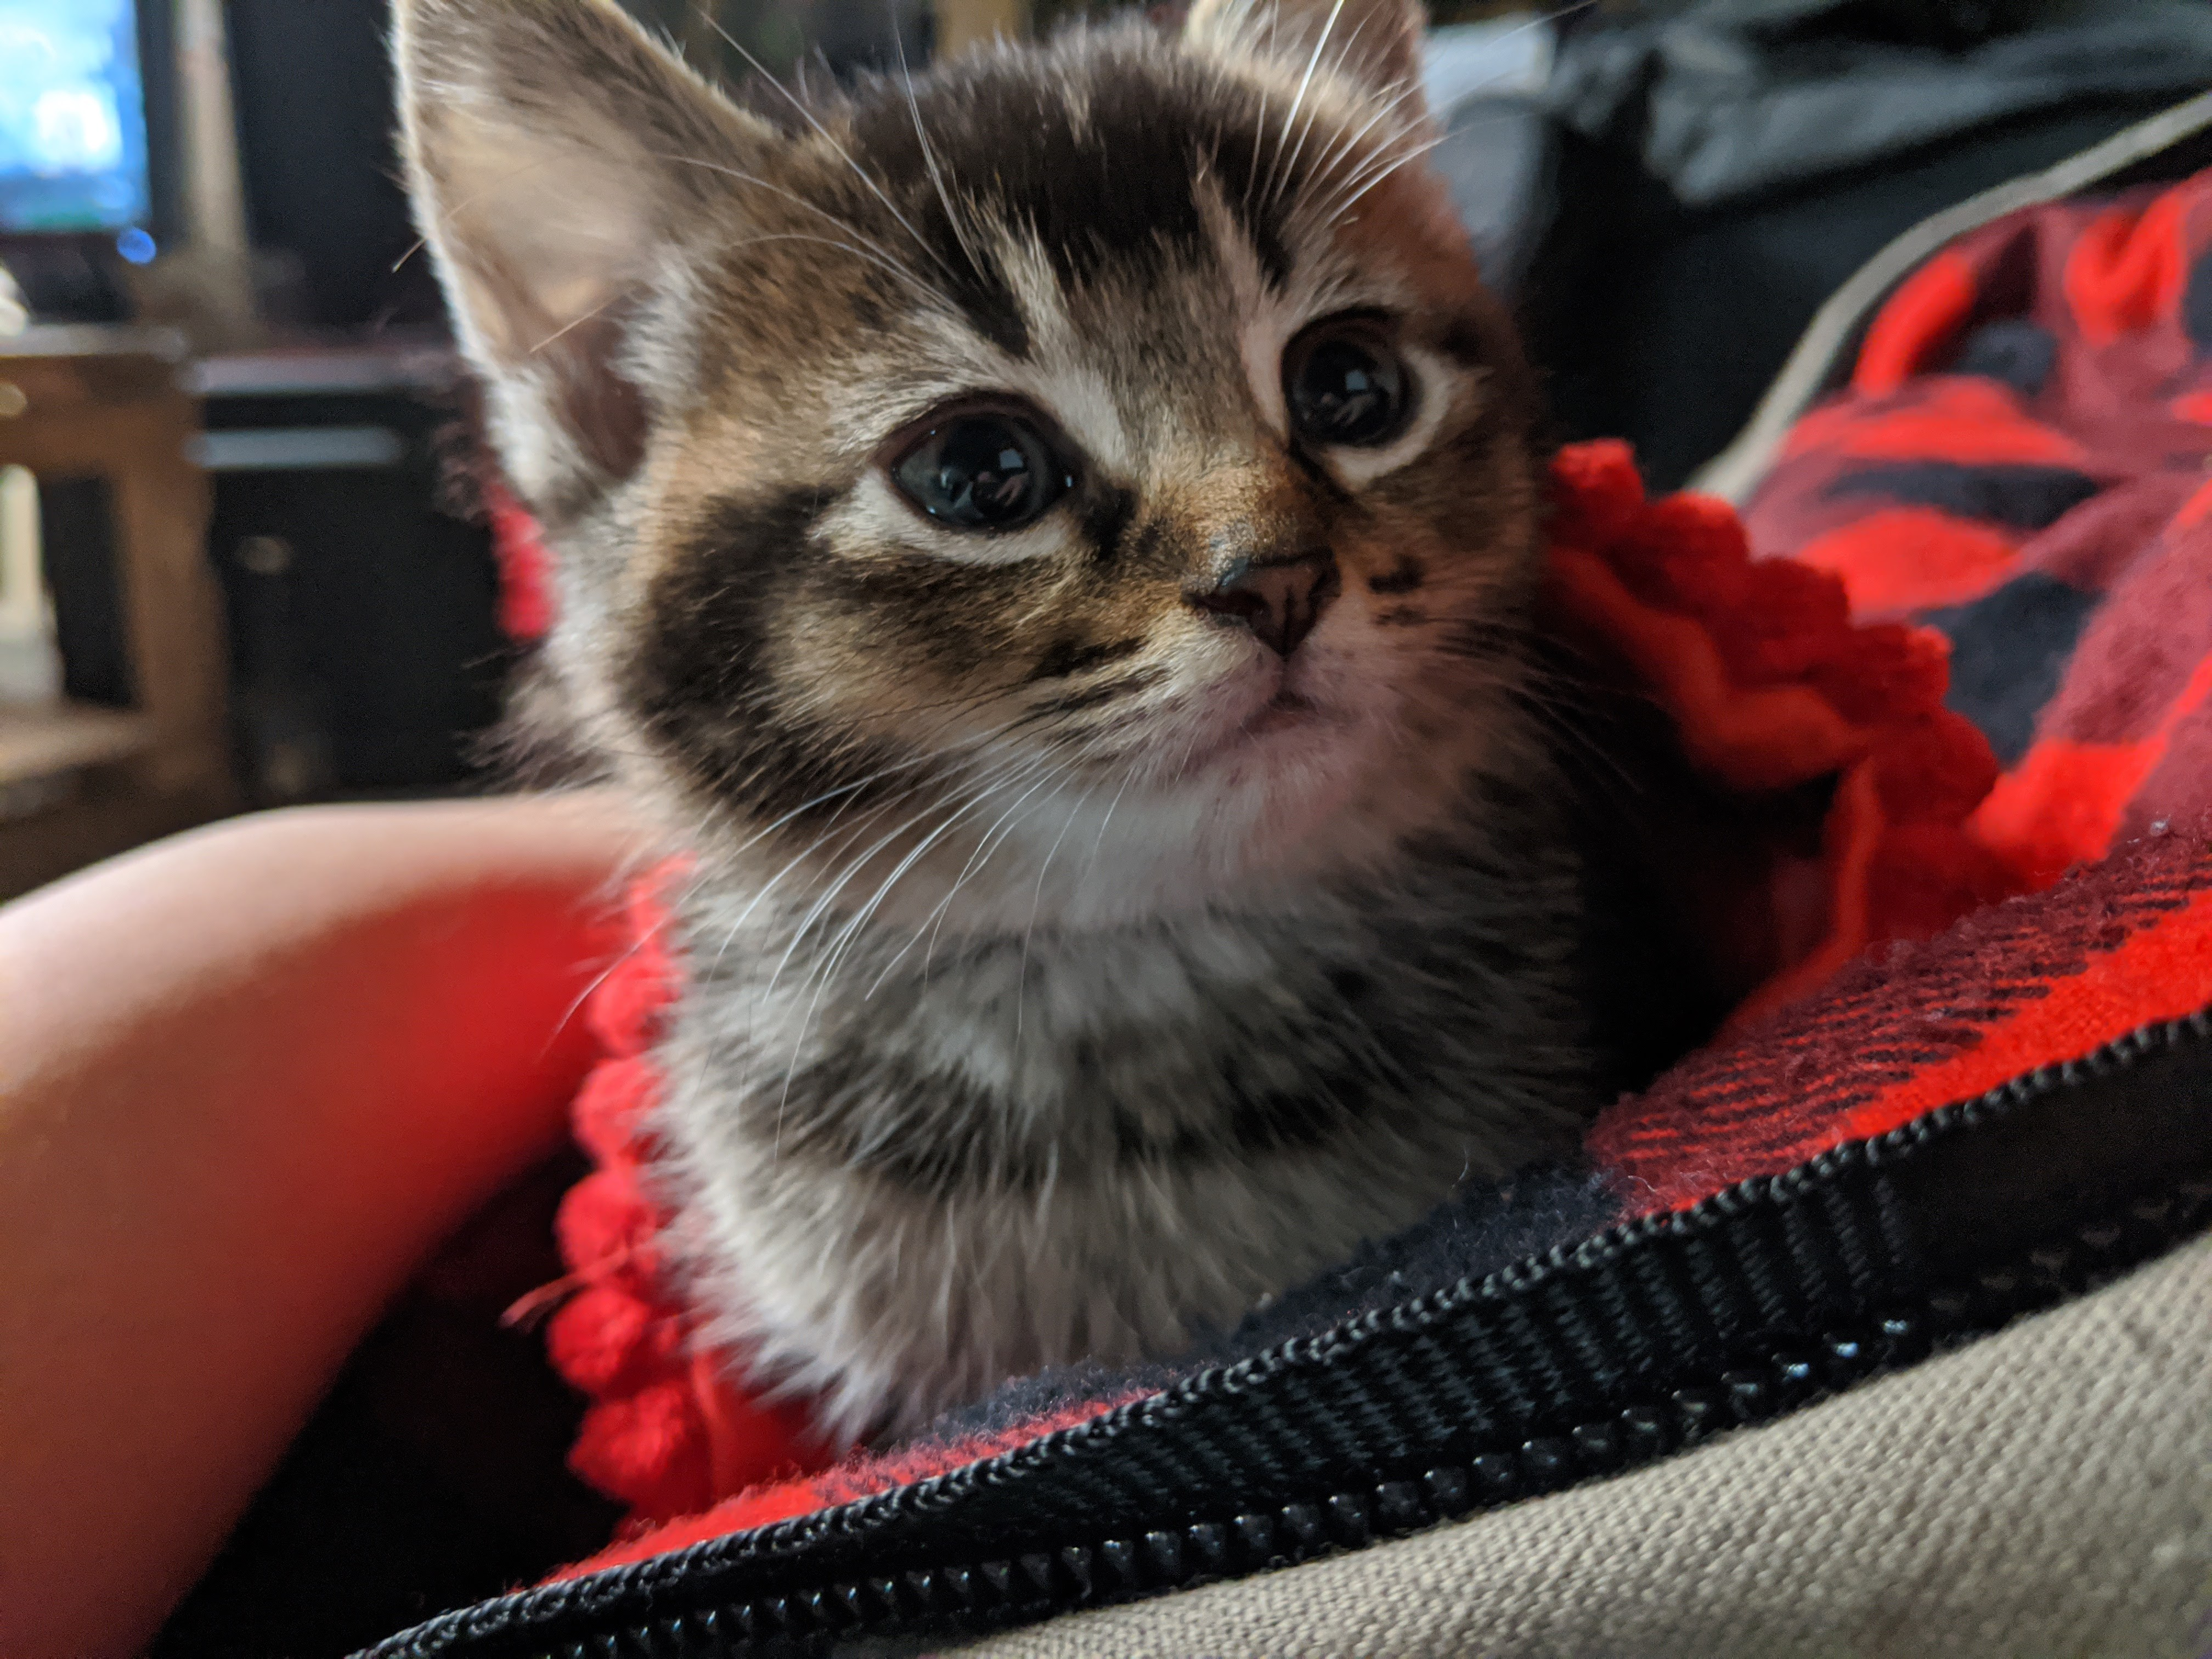luna: (385, 5, 1804, 1441)
